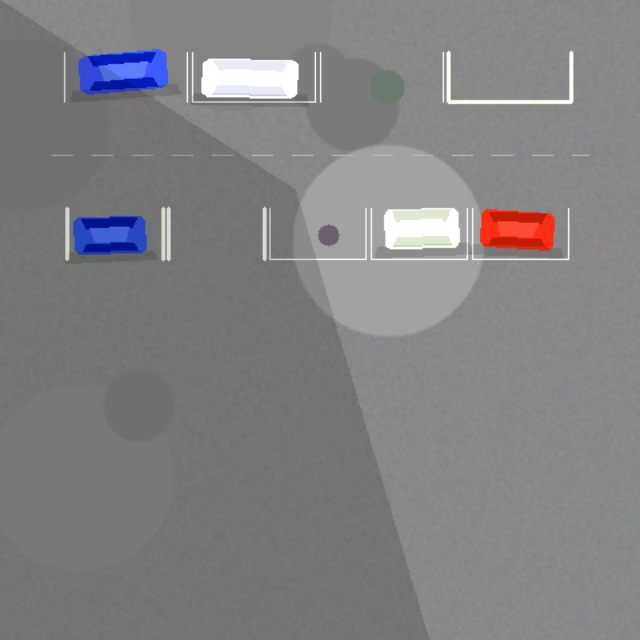space-empty: (320, 52, 443, 101), (448, 52, 571, 101), (168, 208, 264, 259), (269, 208, 365, 259)
space-occupied: (64, 52, 187, 101), (192, 52, 315, 101), (67, 208, 163, 259), (371, 208, 467, 259), (472, 208, 568, 259)
